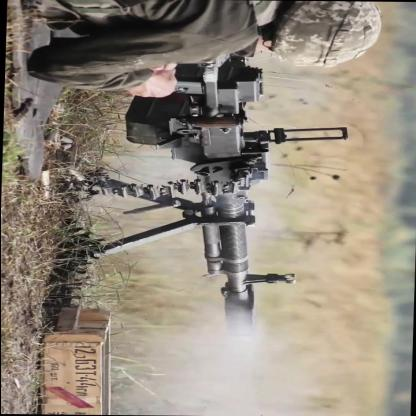rifle: (168, 77, 282, 331)
